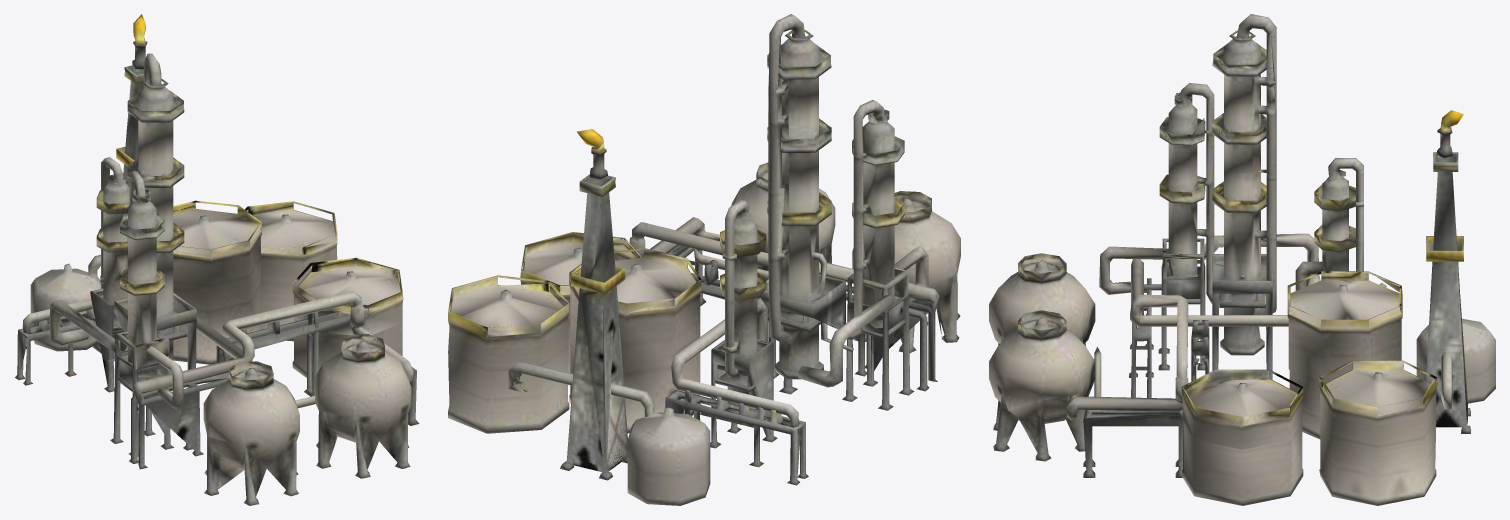
The model's file is petro.glb.
The picture shows the model from 3 angles, left to right: view 1: azimuth 30°, elevation 25°; view 2: azimuth 150°, elevation 25°; view 3: azimuth 270°, elevation 25°; orthographic projection. The views are drawn at different scales.
Visible parts, largest first — view 1: petro; view 2: petro; view 3: petro.
Boxes of the visible parts, x1,y1,x2,y2 form: petro: (14, 14, 419, 505); petro: (448, 14, 960, 505); petro: (989, 14, 1495, 505).
Bounding box in the file's own units: 0.7534 × 0.8004 × 1.
Materials: 1 (1 with a texture image).
